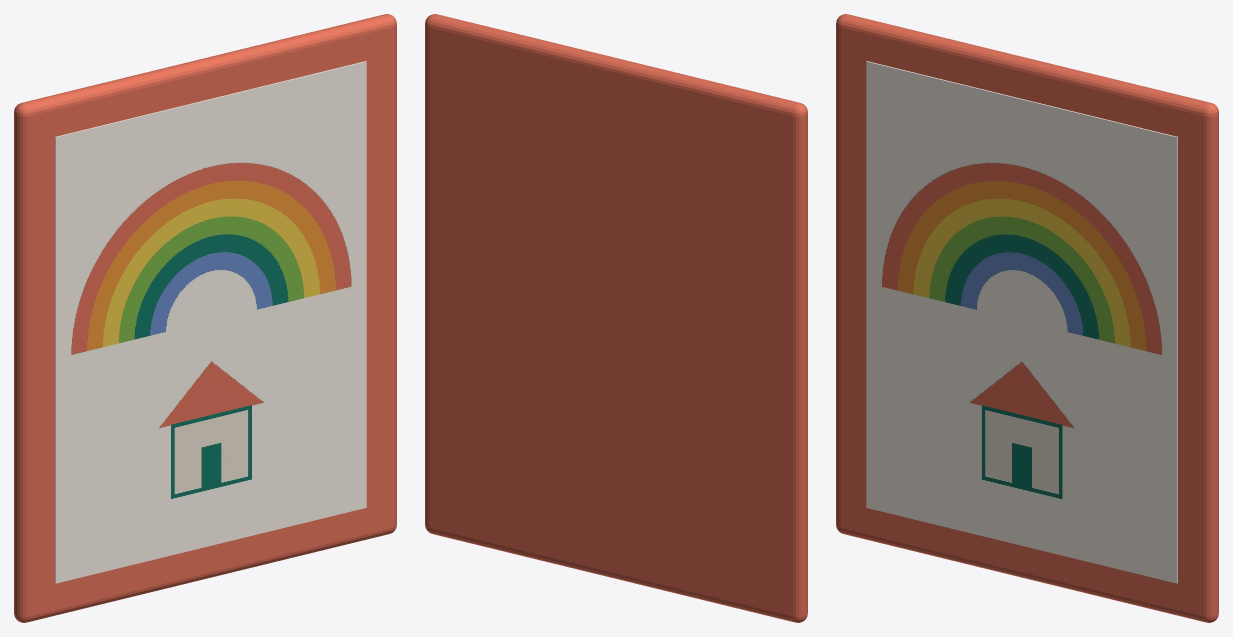
File: poster_c.glb
3 renders of one model, left to right at view 1: azimuth 30°, elevation 25°; view 2: azimuth 150°, elevation 25°; view 3: azimuth 330°, elevation 25°, orthographic.
Visible parts, largest first — view 1: pic, box; view 2: box; view 3: pic, box.
Boxes of the visible parts, bbox=[...] form: pic: bbox=[55, 61, 366, 583]; box: bbox=[14, 14, 396, 622]; box: bbox=[425, 14, 807, 622]; pic: bbox=[866, 61, 1177, 583]; box: bbox=[836, 14, 1218, 622].
Size of the model in its own units: 0.66 by 0.86 by 0.032.
2 materials, 1 textured.
